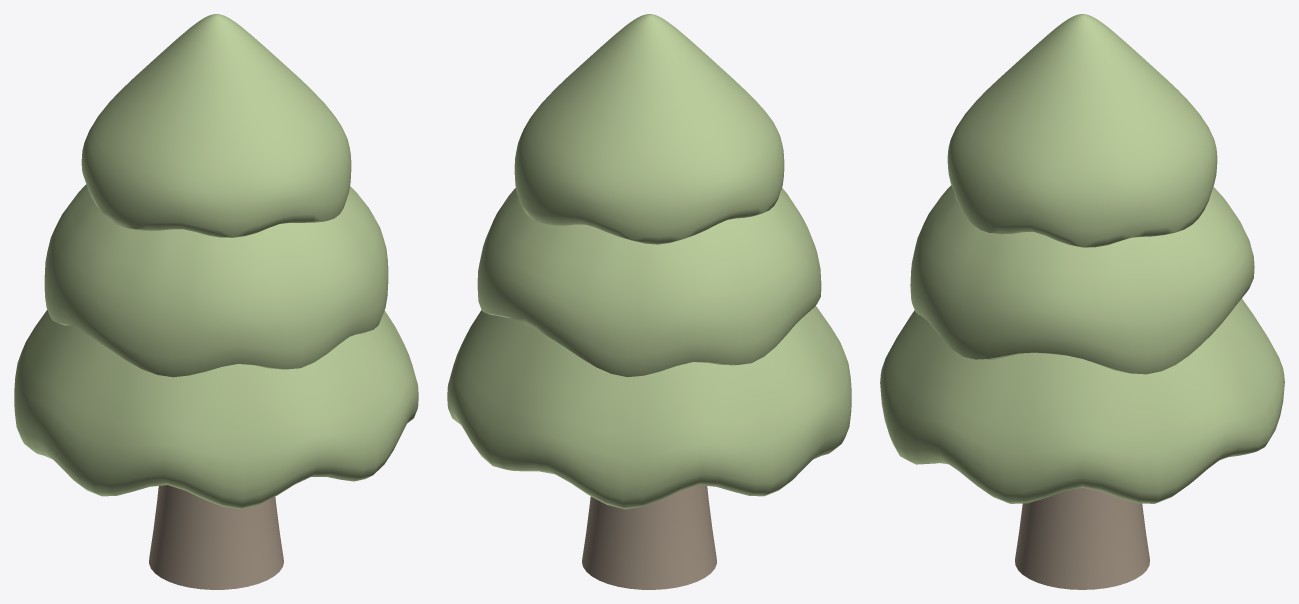
The model's file is tree2.glb.
The picture shows the model from 3 angles, left to right: view 1: azimuth 30°, elevation 25°; view 2: azimuth 150°, elevation 25°; view 3: azimuth 270°, elevation 25°; orthographic projection.
Visible parts, largest first — view 1: 나무1_1; view 2: 나무1_1; view 3: 나무1_1.
Boxes of the visible parts, x1,y1,x2,y2 form: 나무1_1: (14,14,418,589); 나무1_1: (447,14,851,589); 나무1_1: (880,14,1284,589).
Bounding box in the file's own units: 0.7486 × 1.12 × 0.7486.
